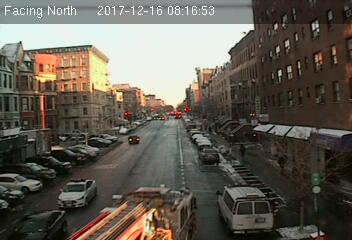car: (199, 148, 218, 163), (127, 133, 140, 143)
pedestrian: (275, 153, 288, 176)
police: (214, 181, 273, 235), (57, 177, 97, 209)
